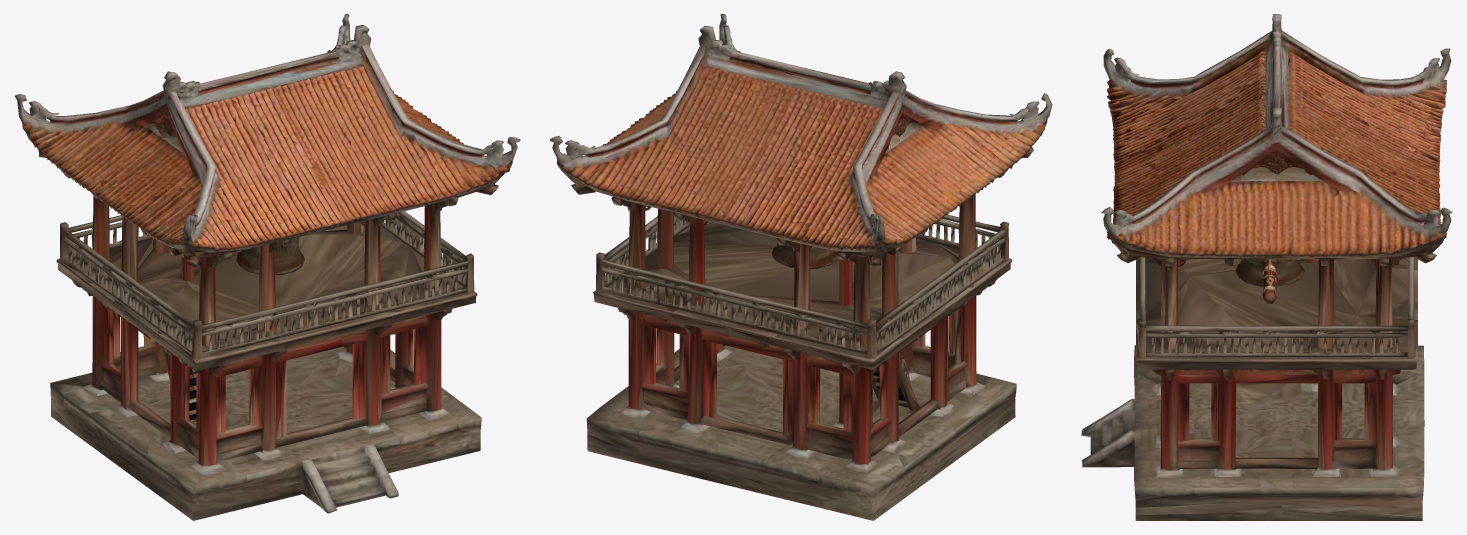
Rendered from bell-shell.glb.
The picture shows the model from 3 angles, left to right: view 1: azimuth 30°, elevation 25°; view 2: azimuth 150°, elevation 25°; view 3: azimuth 270°, elevation 25°; orthographic projection.
Parts seen in each view (by area): view 1: gacchuong; view 2: gacchuong; view 3: gacchuong.
Boxes of the visible parts, left/top/right/bottom form: gacchuong: left=14, top=14, right=520, bottom=520; gacchuong: left=549, top=14, right=1052, bottom=520; gacchuong: left=1081, top=14, right=1452, bottom=520.
Bounding box in the file's own units: 0.891 × 0.978 × 0.8472.
Materials: 1 (1 with a texture image).
